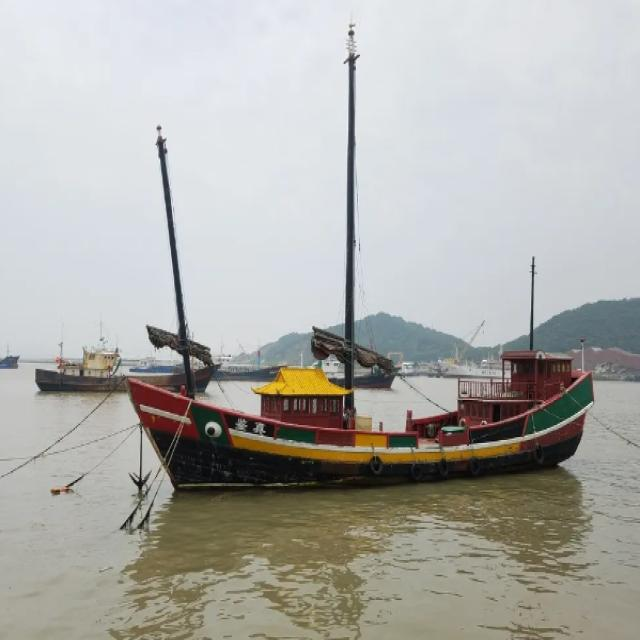fishing boat: (117, 168, 592, 499), (33, 326, 212, 396), (190, 336, 288, 379), (297, 347, 399, 387), (126, 348, 178, 372), (0, 341, 22, 369)
